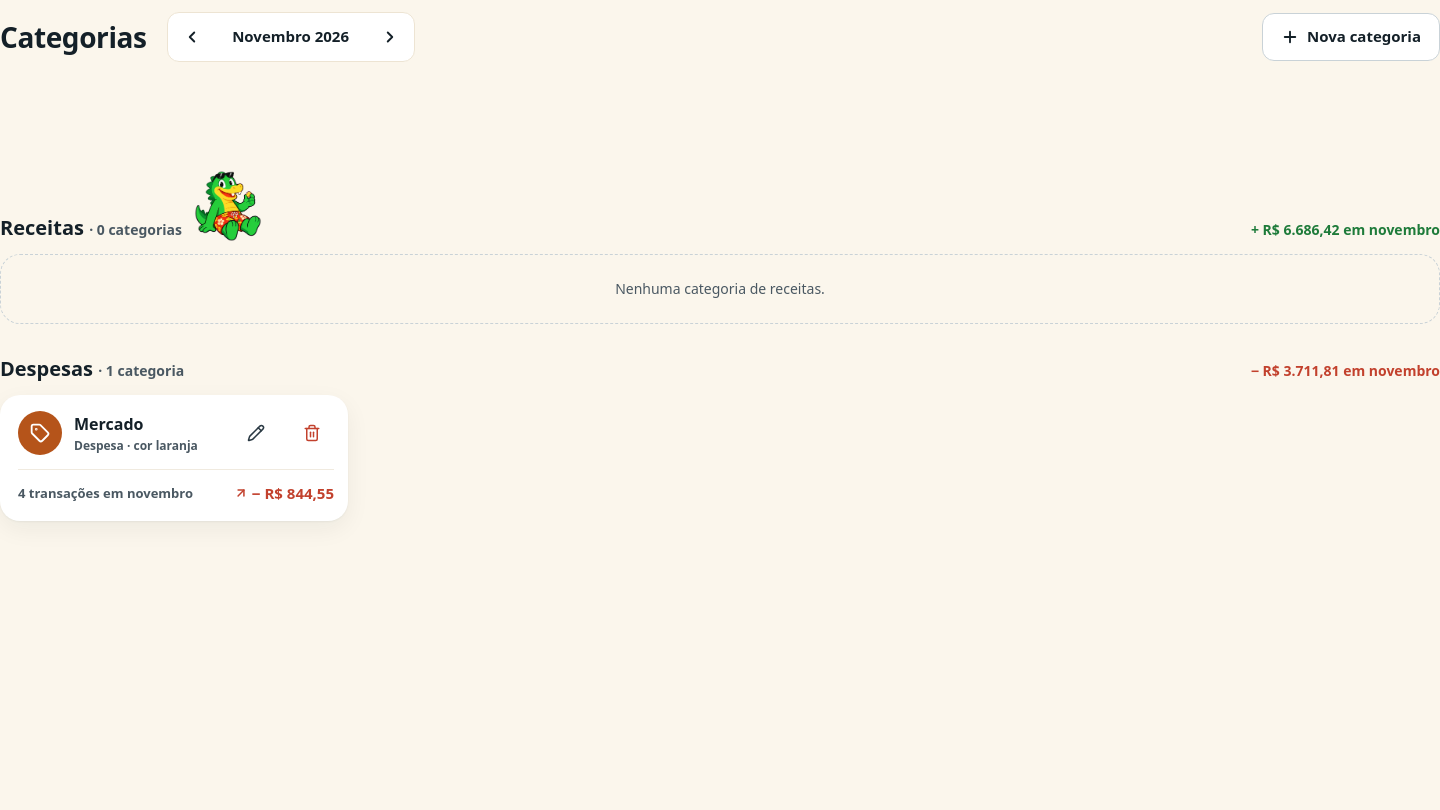
CategoriasPage › exibe o erro de validação da API no campo
Click the button "Nova categoria": (1351,36) [1262,12,1439,60]
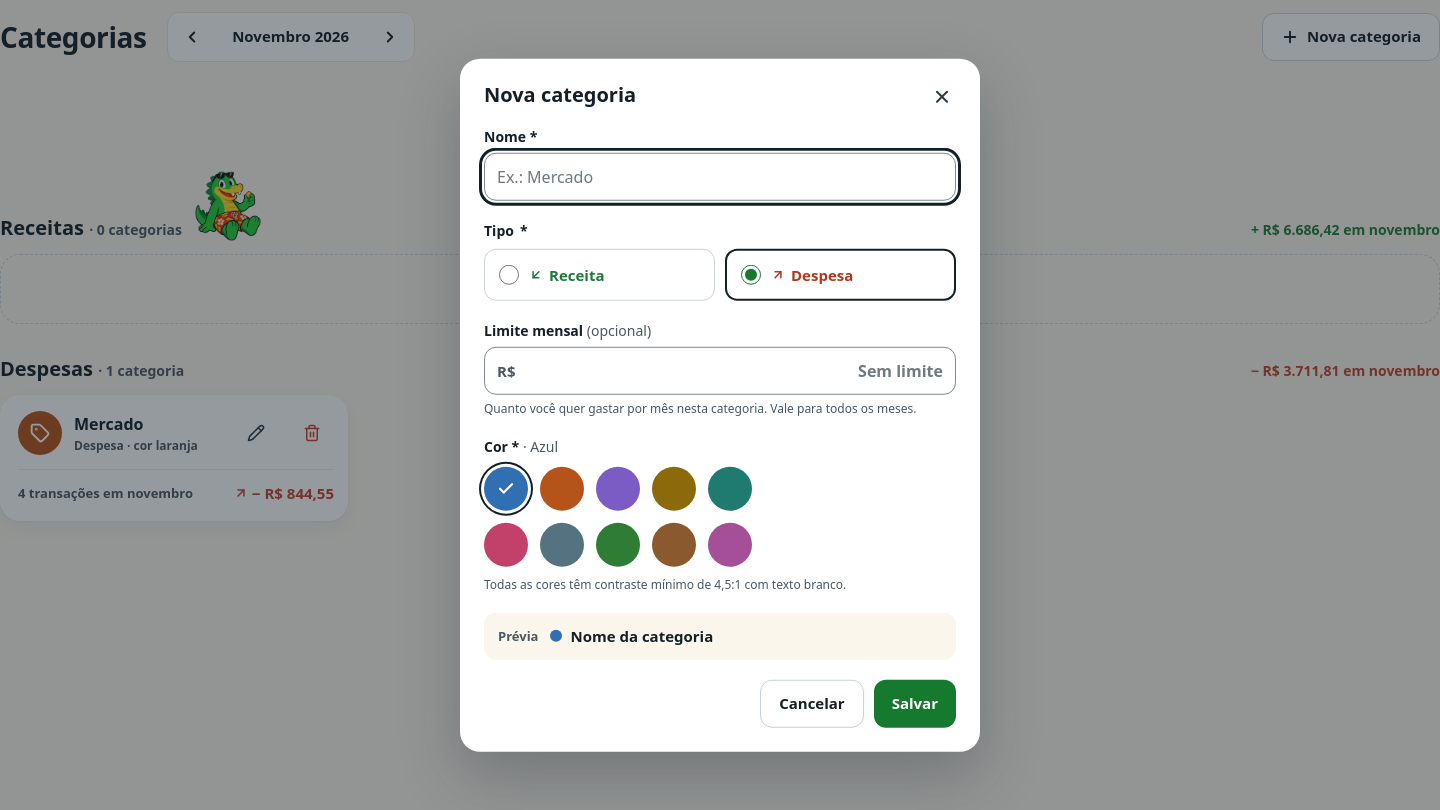
In the field labelled "Nome *": (720,177) [497,154,943,200], type "mercado"
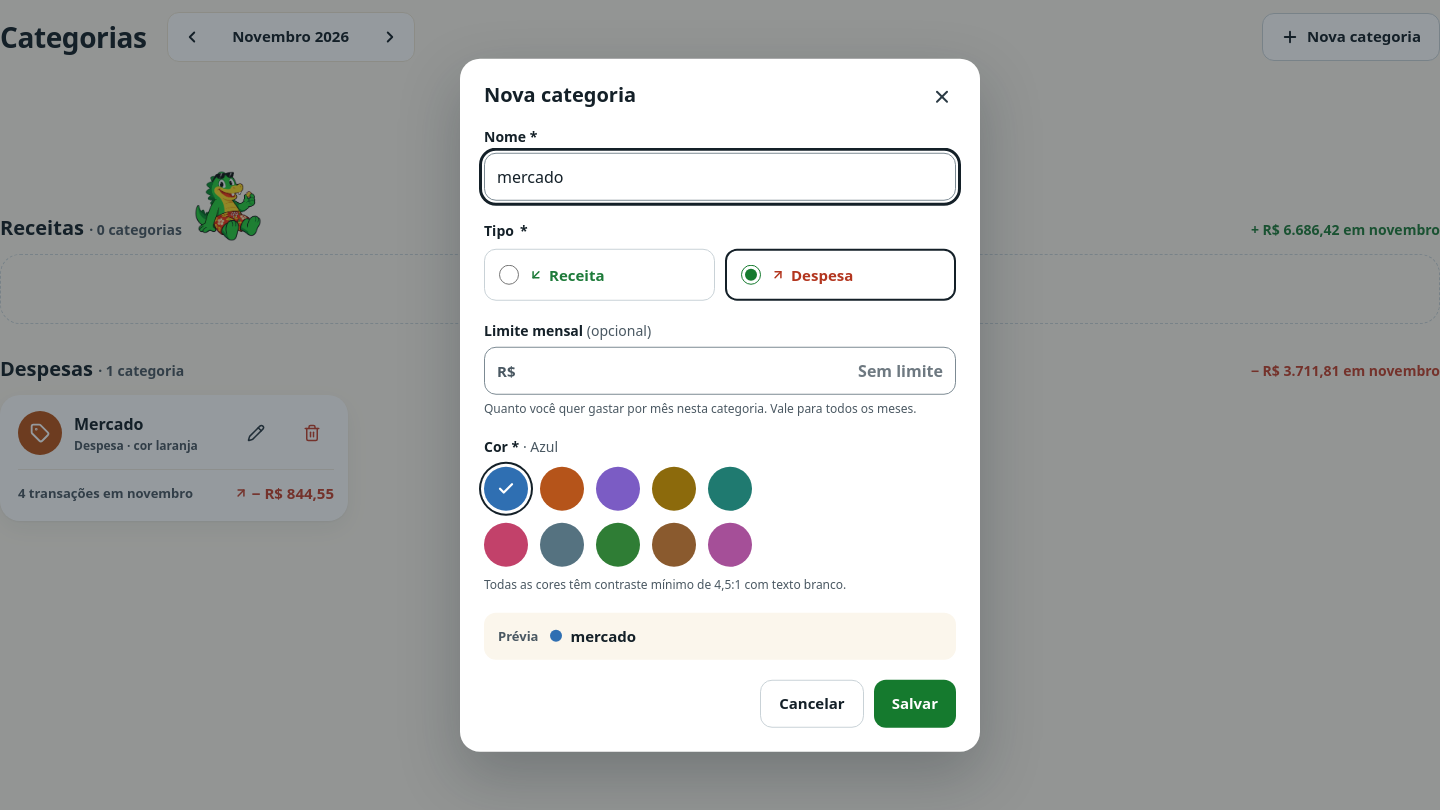
Click the button "Salvar": (915,703) [874,679,956,727]
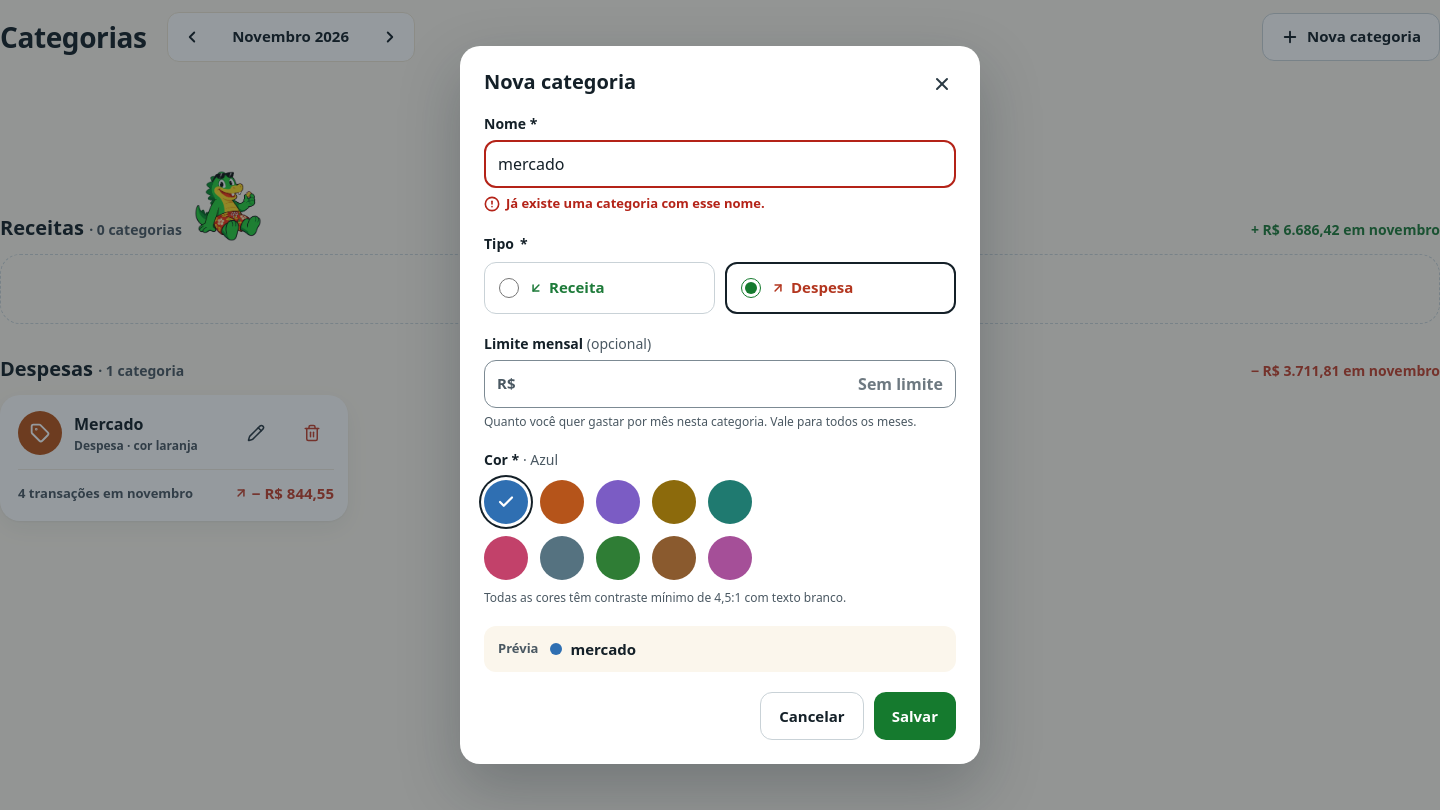
Result: the text "Já existe uma categoria com esse nome." is shown at [506,194,765,214]
